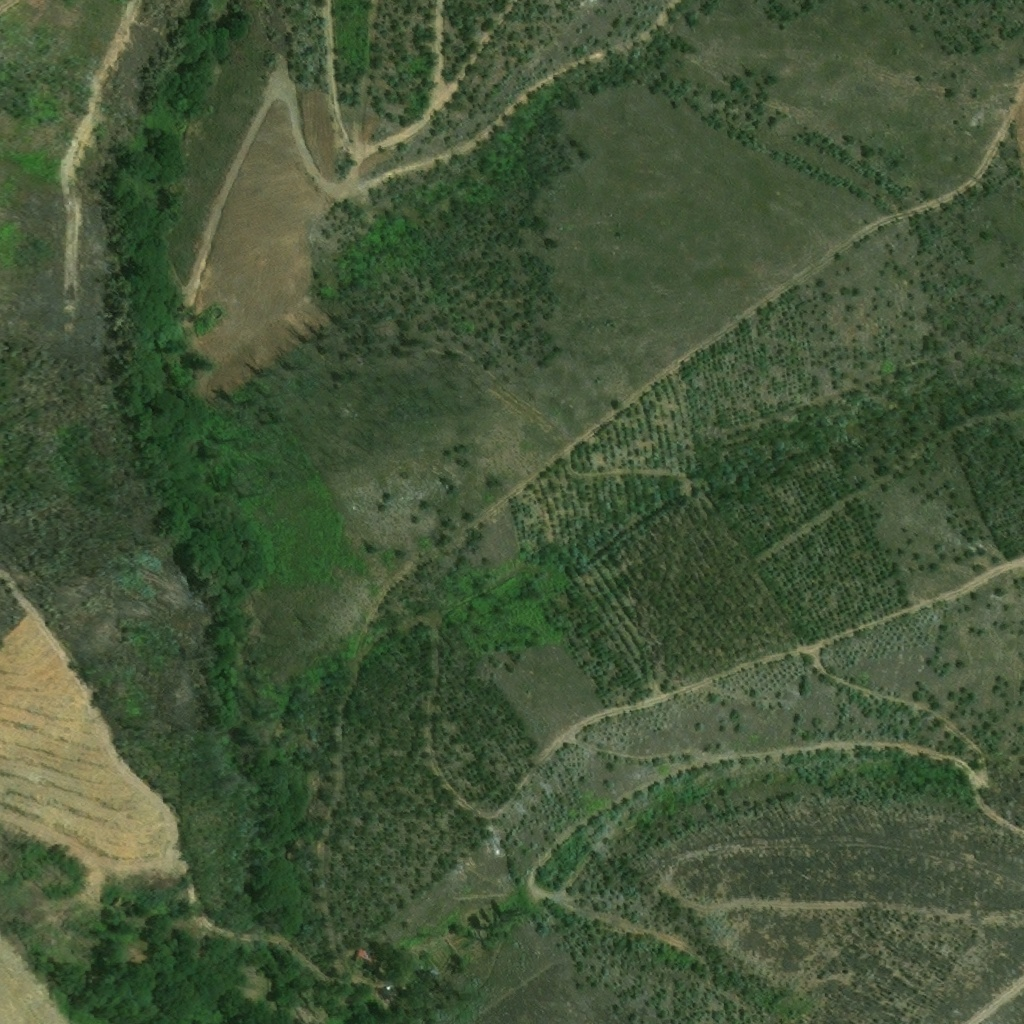0 no-damage: (356, 945, 377, 963)
